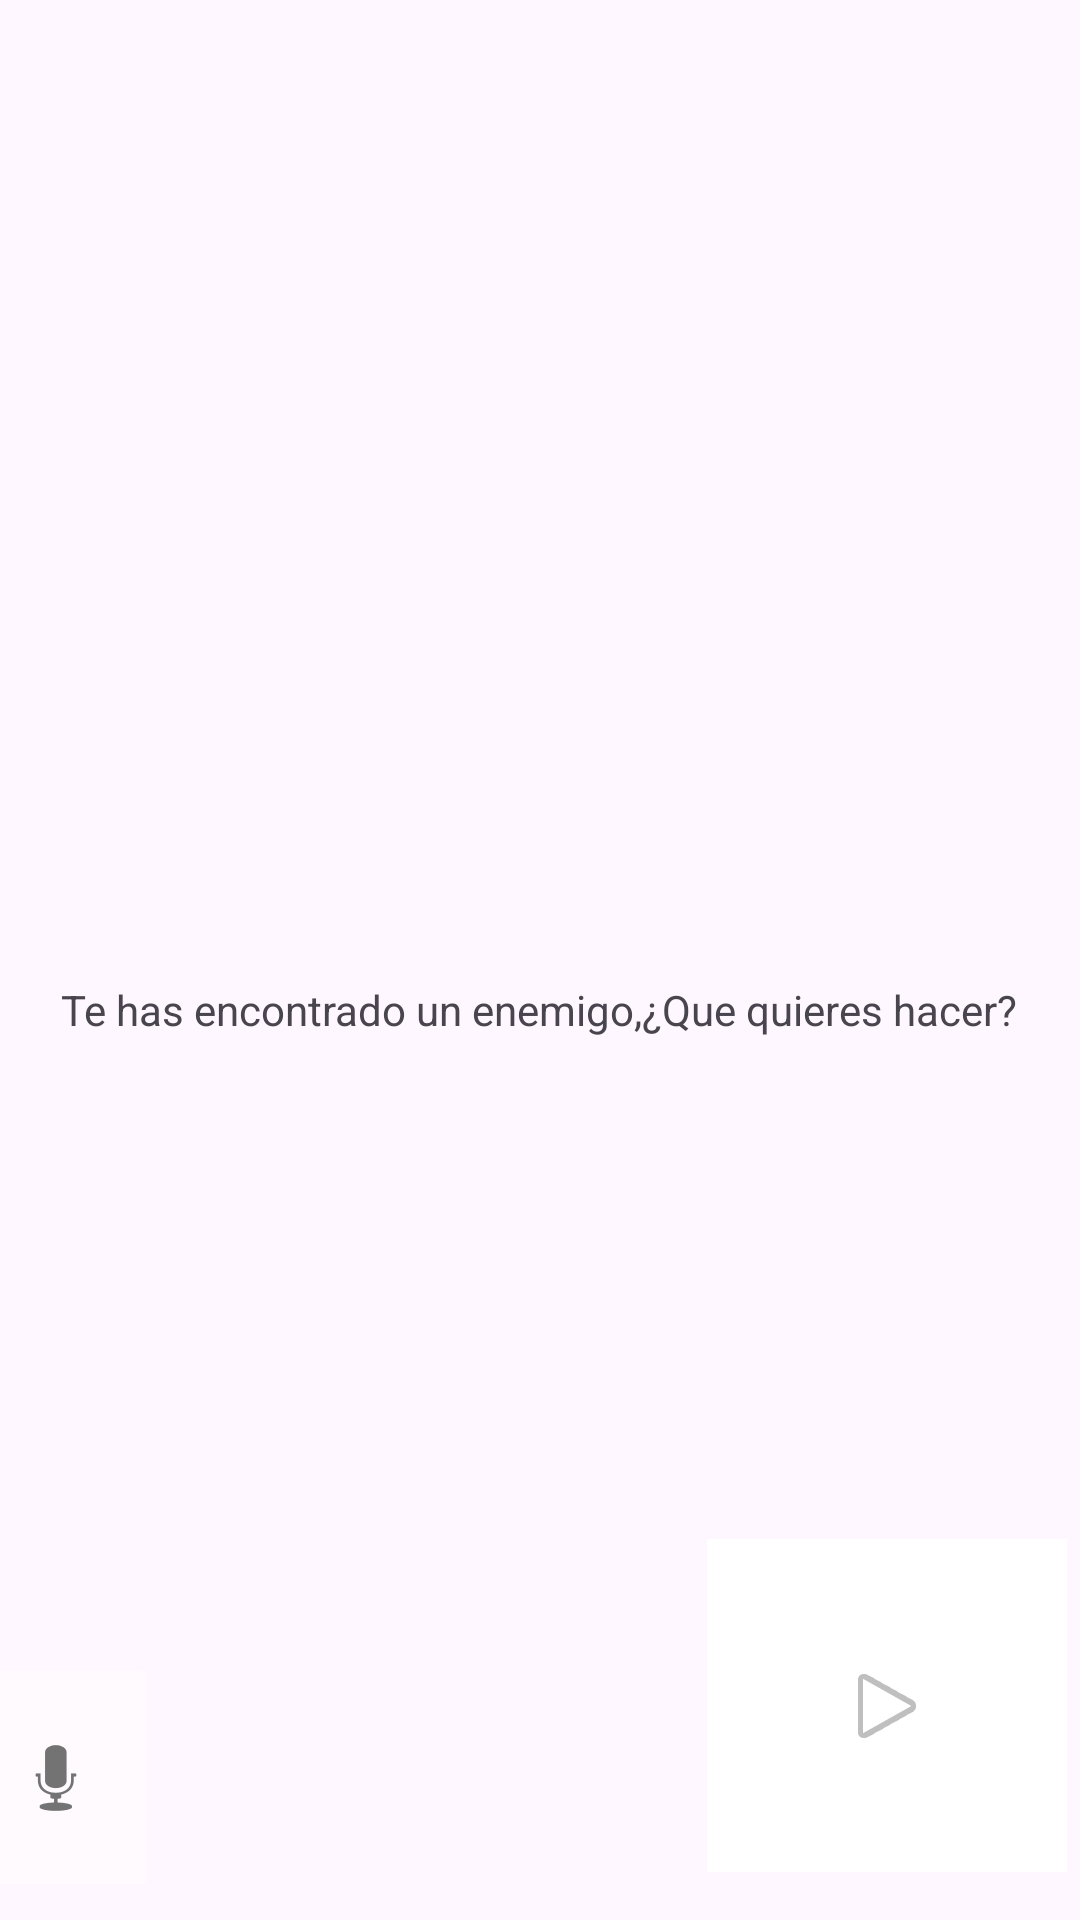

Screen size 1080 × 1920. Icon name, then its box in pixels as (x1, y1, x2, y2):
play: (858, 1674, 916, 1738)
